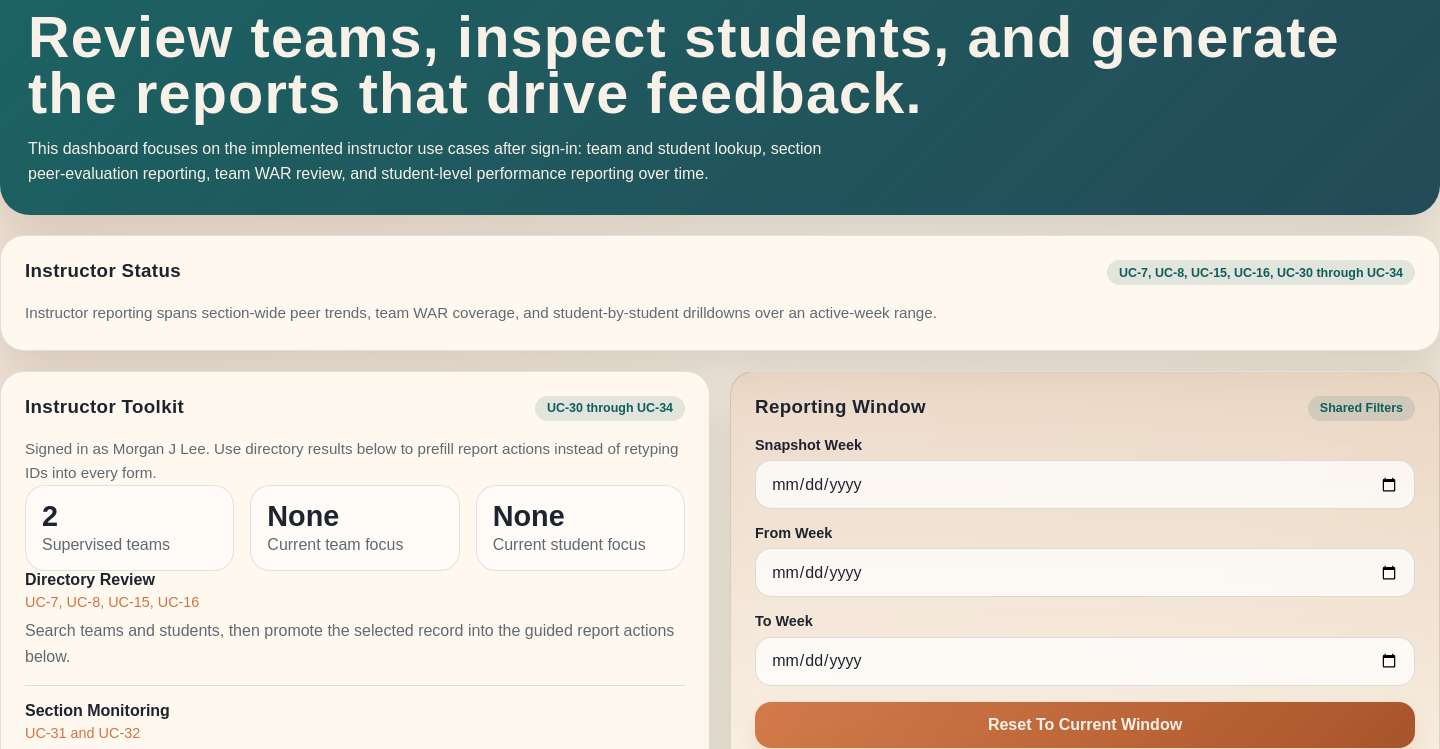
Test: InstructorWorkspace › renders student deep-dive peer and WAR reports over the shared date window
Expected: the label "From Week" is shown, [755,525,1415,598]
Type "2026-04-13" into the date field labelled "From Week" at (1085, 573), box [755,548,1415,598]
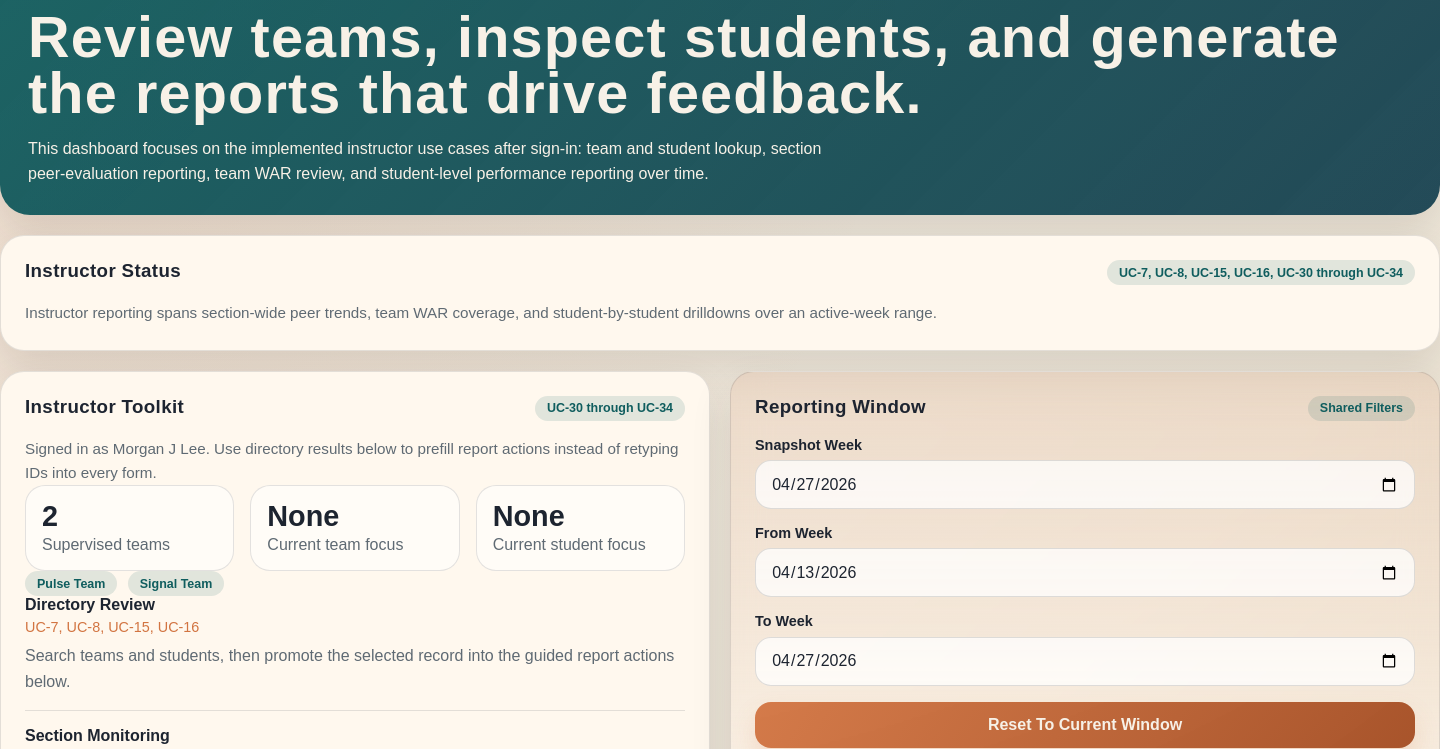
Expected: the label "To Week" is shown, [755,614,1415,686]
Type "2026-04-20" into the date field labelled "To Week" at (1085, 661), box [755,637,1415,686]
(page scrolled)
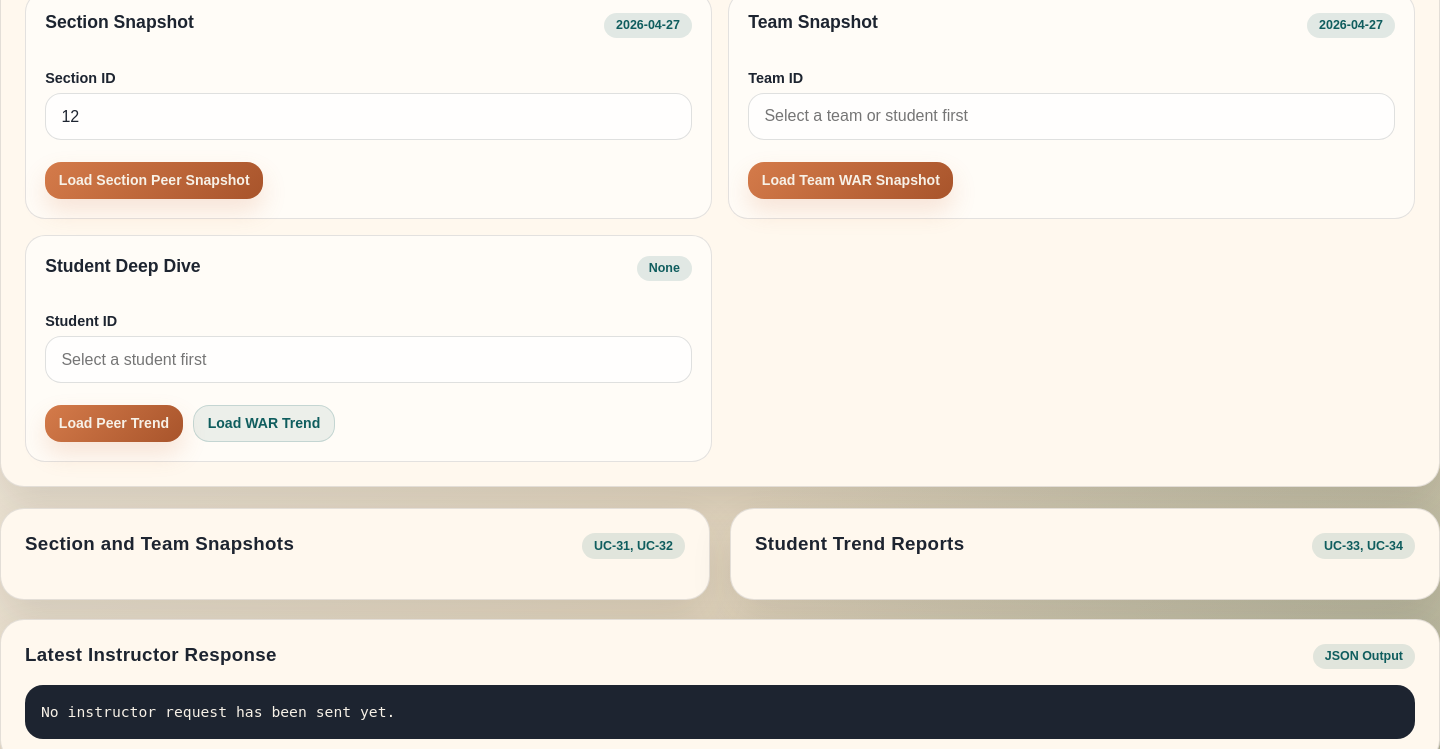
Expected: the label "Student ID" is shown, [45,313,692,383]
Type "7" into the field labelled "Student ID" at (368, 360), box [45,336,692,383]
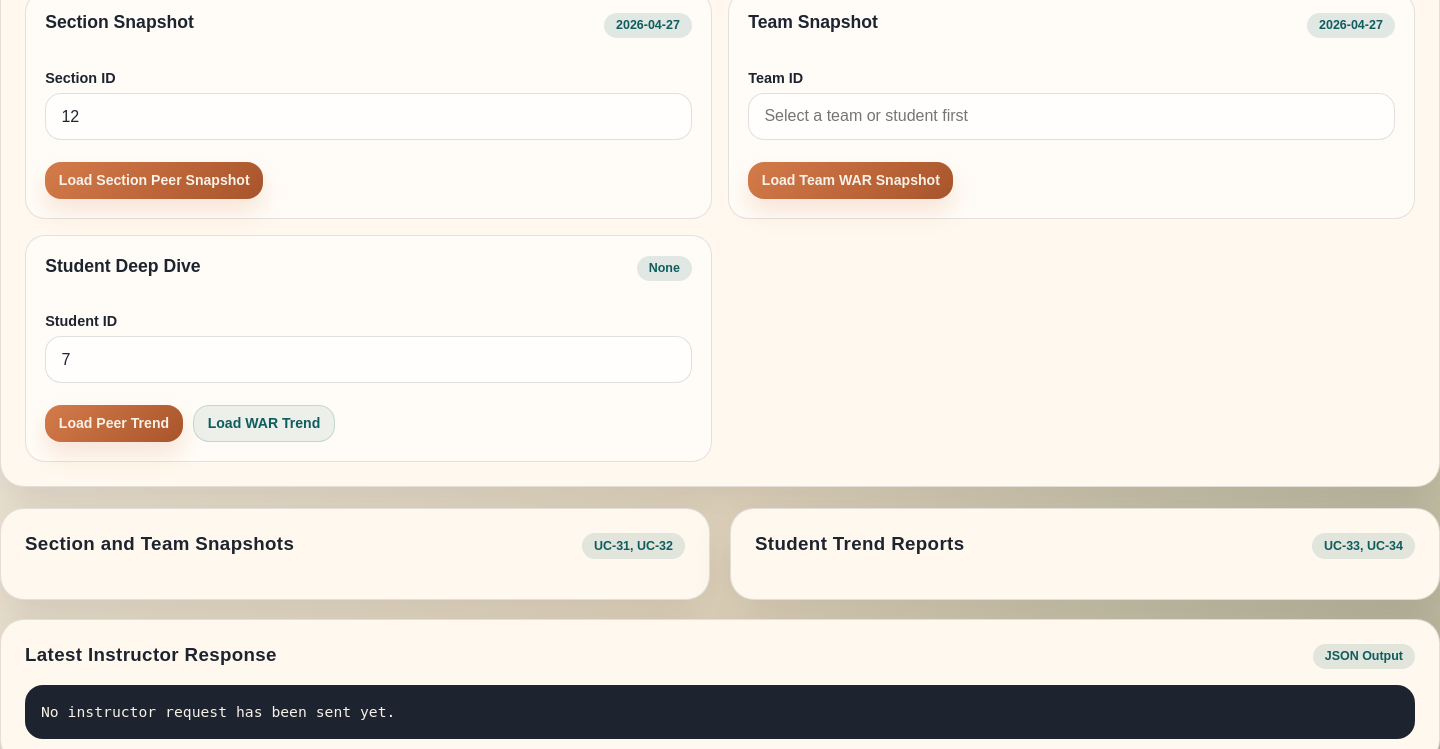
Click the button "Load Peer Trend" at (114, 424), box [45,405,183,442]
(page scrolled)
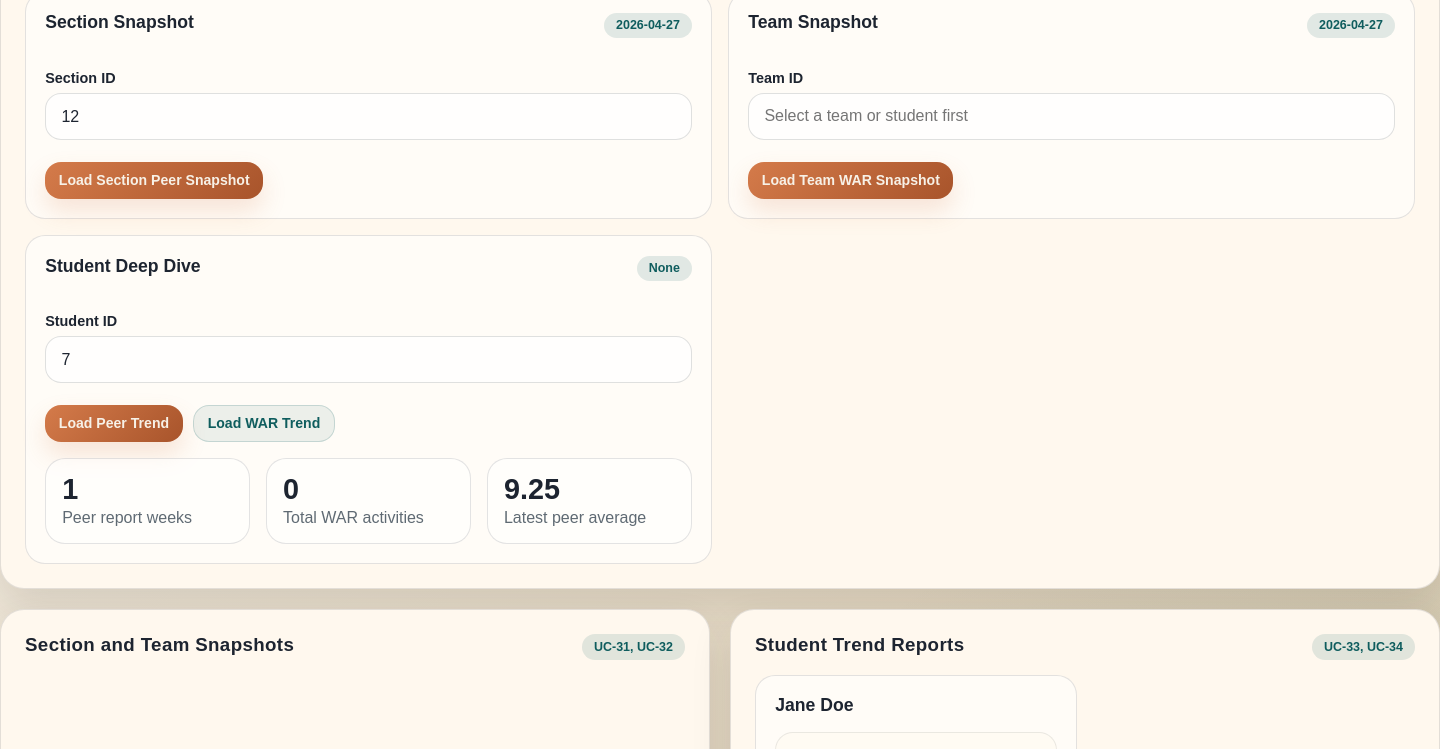
Click the button "Load WAR Trend" at (264, 424), box [193,405,335,442]
(page scrolled)
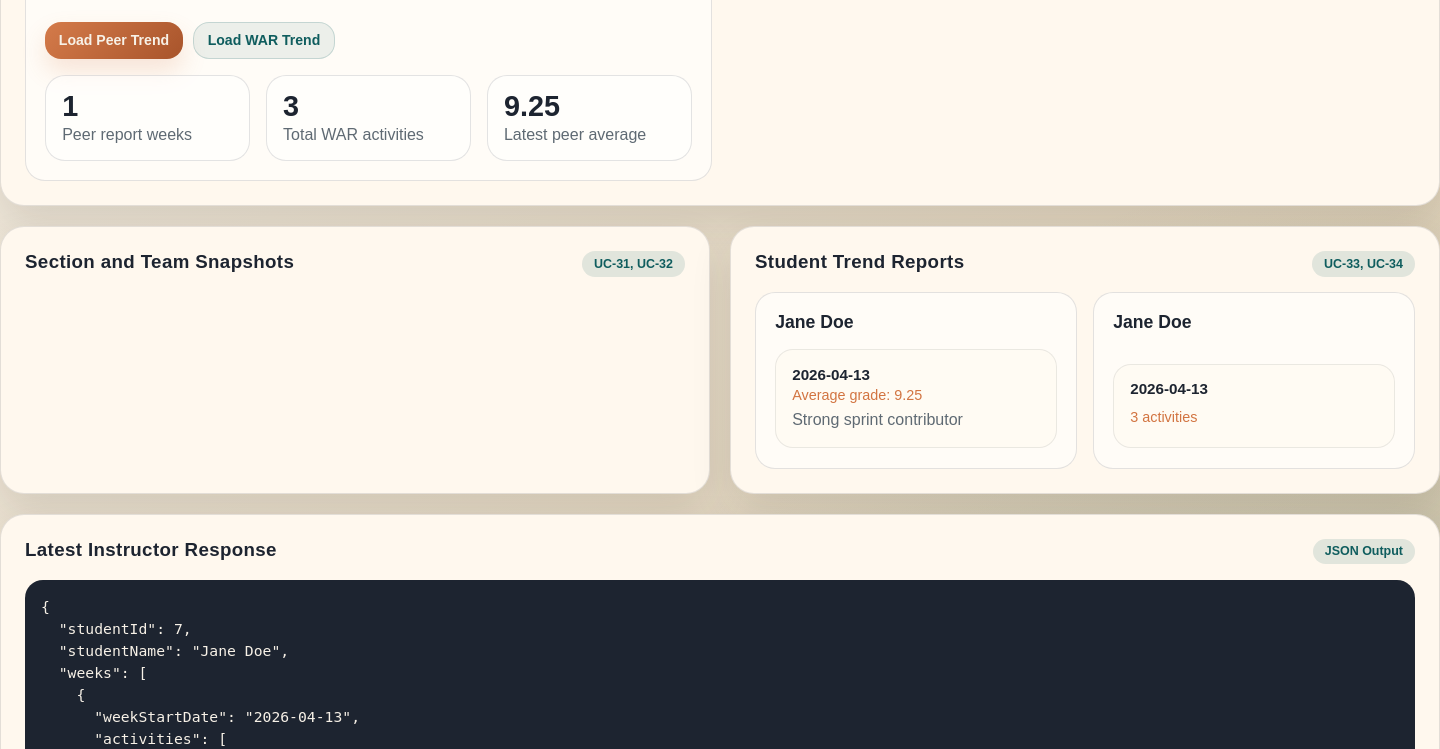
Now the element that starts with "UC-33, UC-34" shows "Average grade: 9.25", box [792,387,922,403]
Now the element that starts with "UC-33, UC-34" shows "Strong sprint contributor", box [792,411,963,428]
Now the element that starts with "UC-33, UC-34" shows "3 activities", box [1130,409,1197,425]
